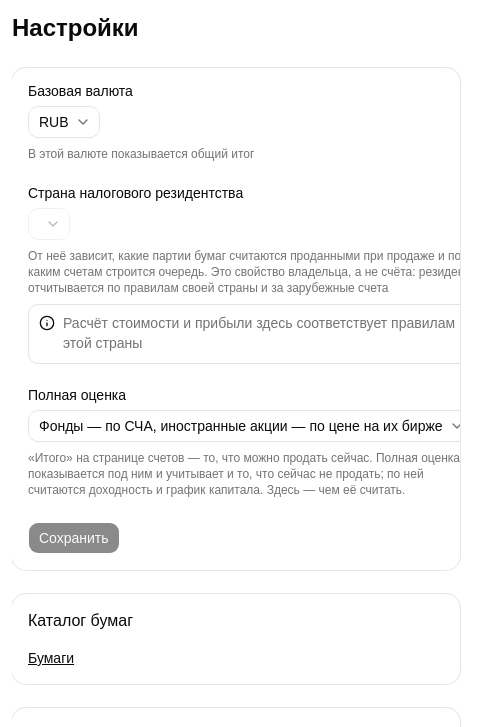
Test case: SettingsPage › says the settings were saved, and stops saying it once the form changes again
Click the dropdown named "Базовая валюта" at (64, 122), box [28, 106, 100, 138]
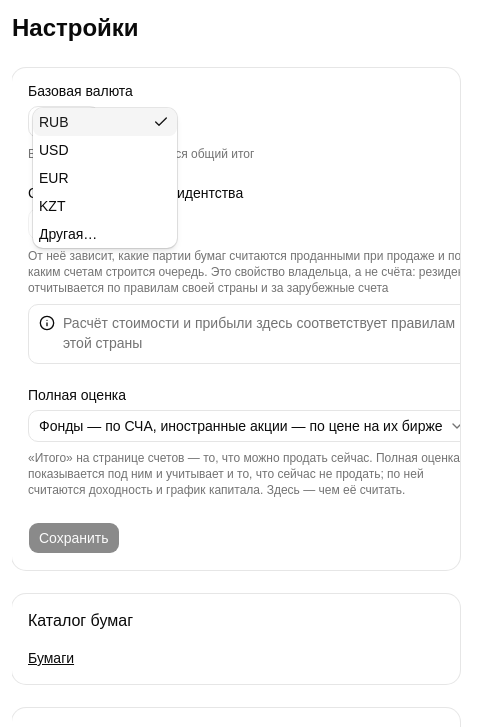
Click the option "USD" at (54, 150), box [39, 142, 69, 158]
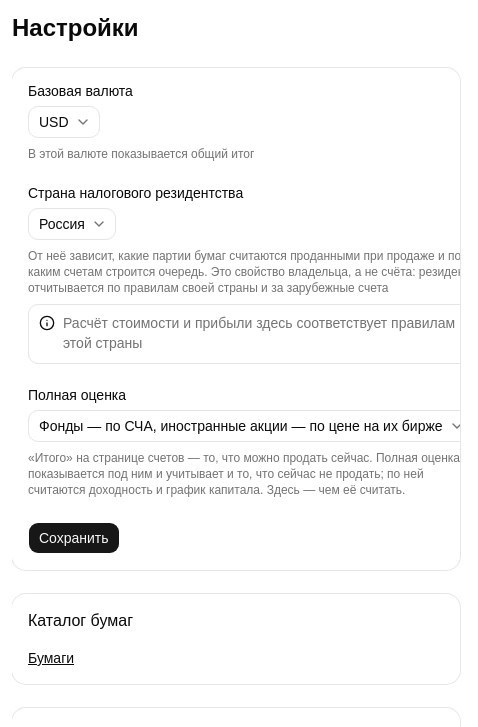
Click the button "Сохранить" at (74, 538), box [28, 522, 120, 554]
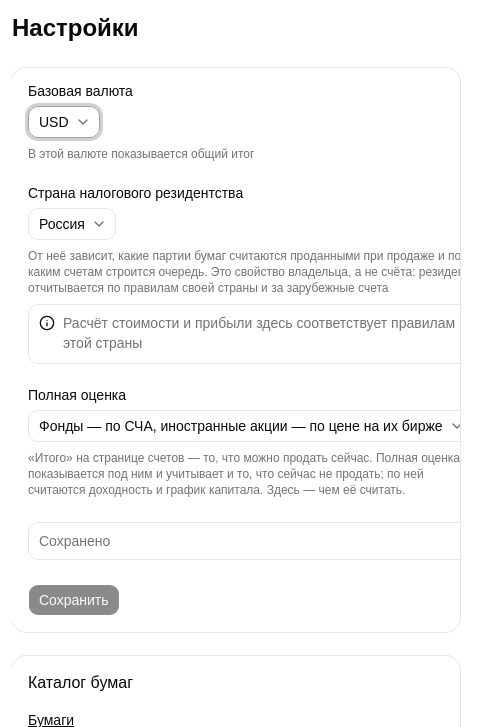
Now the message with test id "settings-saved" reads "Сохранено", box [39, 533, 110, 549]
// Touching a field again makes the confirmation false, so it goes.
Click the dropdown named "Базовая валюта" at (64, 122), box [28, 106, 100, 138]
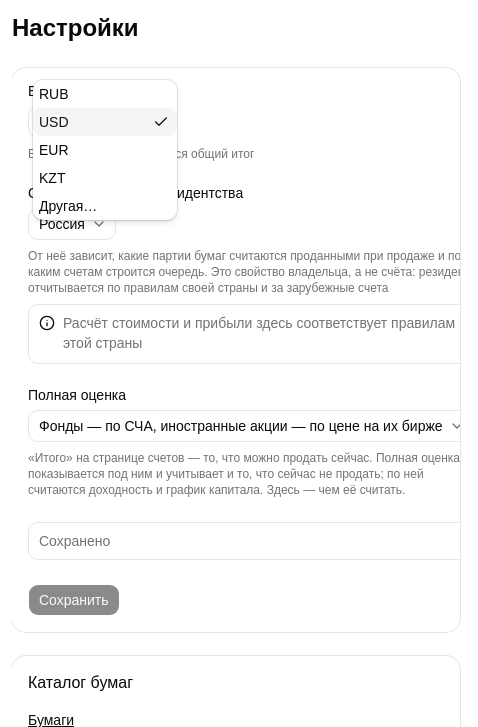
Click the option "EUR" at (54, 150), box [39, 142, 69, 158]
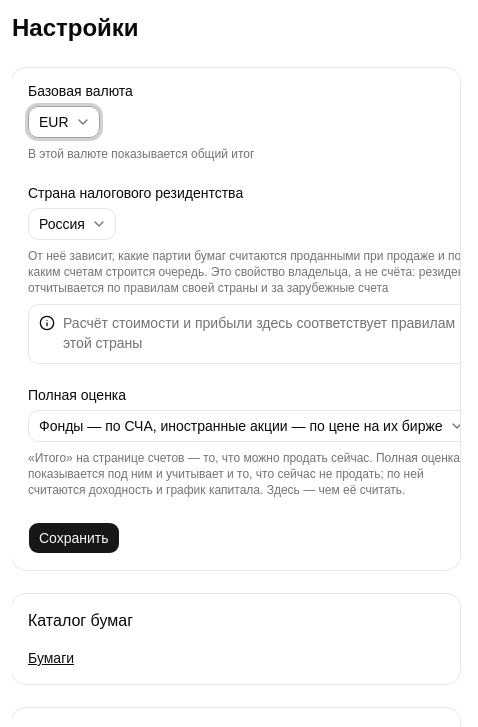
Now the message with test id "settings-saved" is gone
